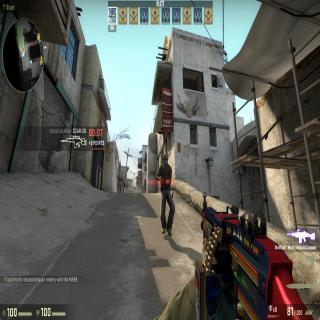T-Body: (157, 151, 175, 237)
T-Head: (162, 151, 170, 167)
